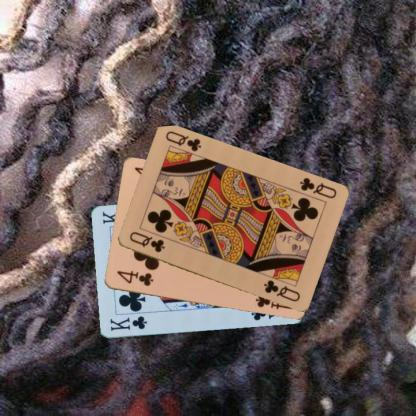4c: (114, 268, 154, 288)
Kc: (107, 314, 148, 332)
Qc: (296, 174, 338, 200), (126, 229, 166, 254)
